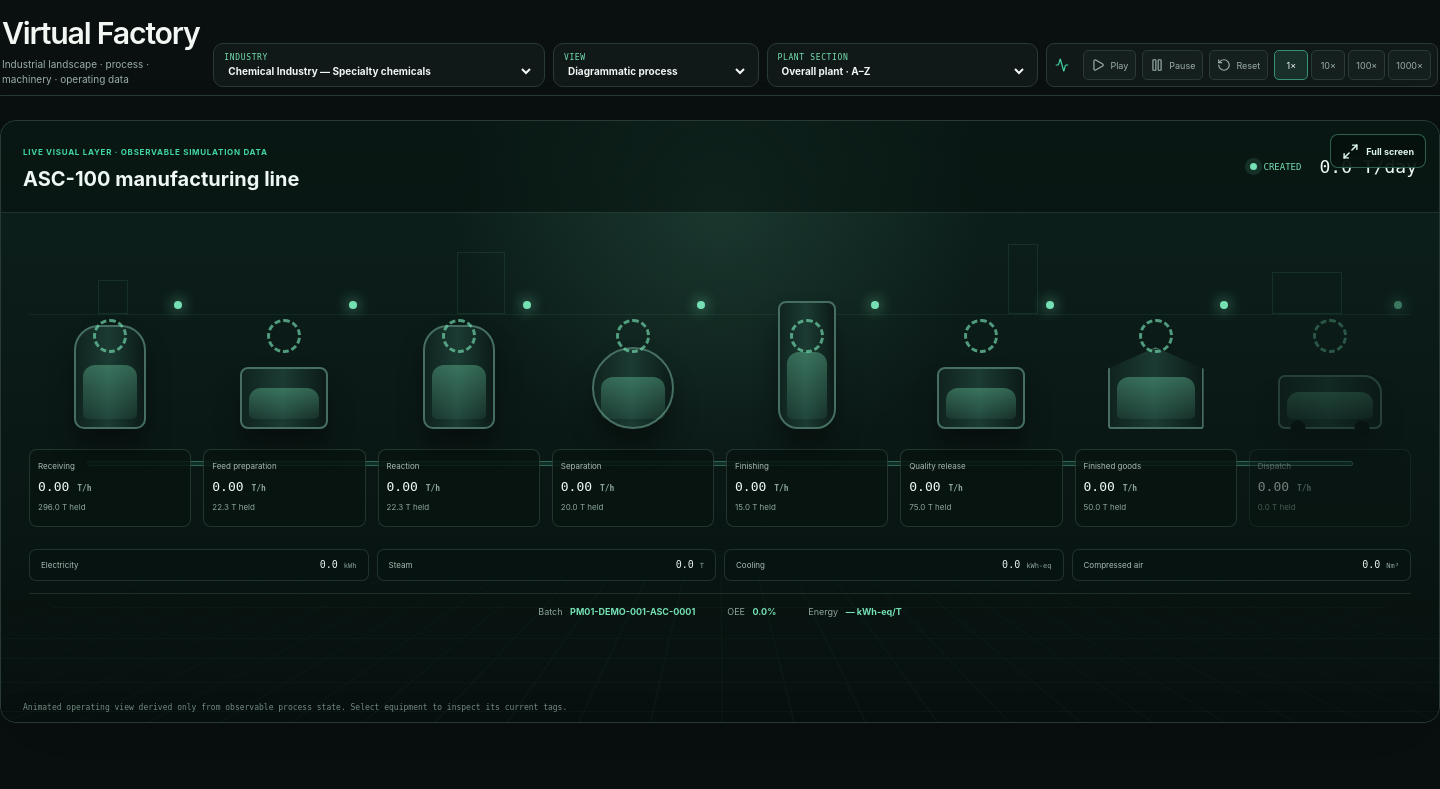
Scenario: PM-01 virtual factory › renders the complete process topology and honest intelligence placeholder
The image size is (1440, 789).
Expected: the heading "Virtual Factory" is shown, x1=2 y1=11 x2=201 y2=56
Expected: the heading "ASC-100 manufacturing line" is shown, x1=23 y1=164 x2=299 y2=194
Select "Statistical view" in the dropdown named "Choose plant view": (656, 71) x1=564 y1=64 x2=748 y2=78
(page scrolled)
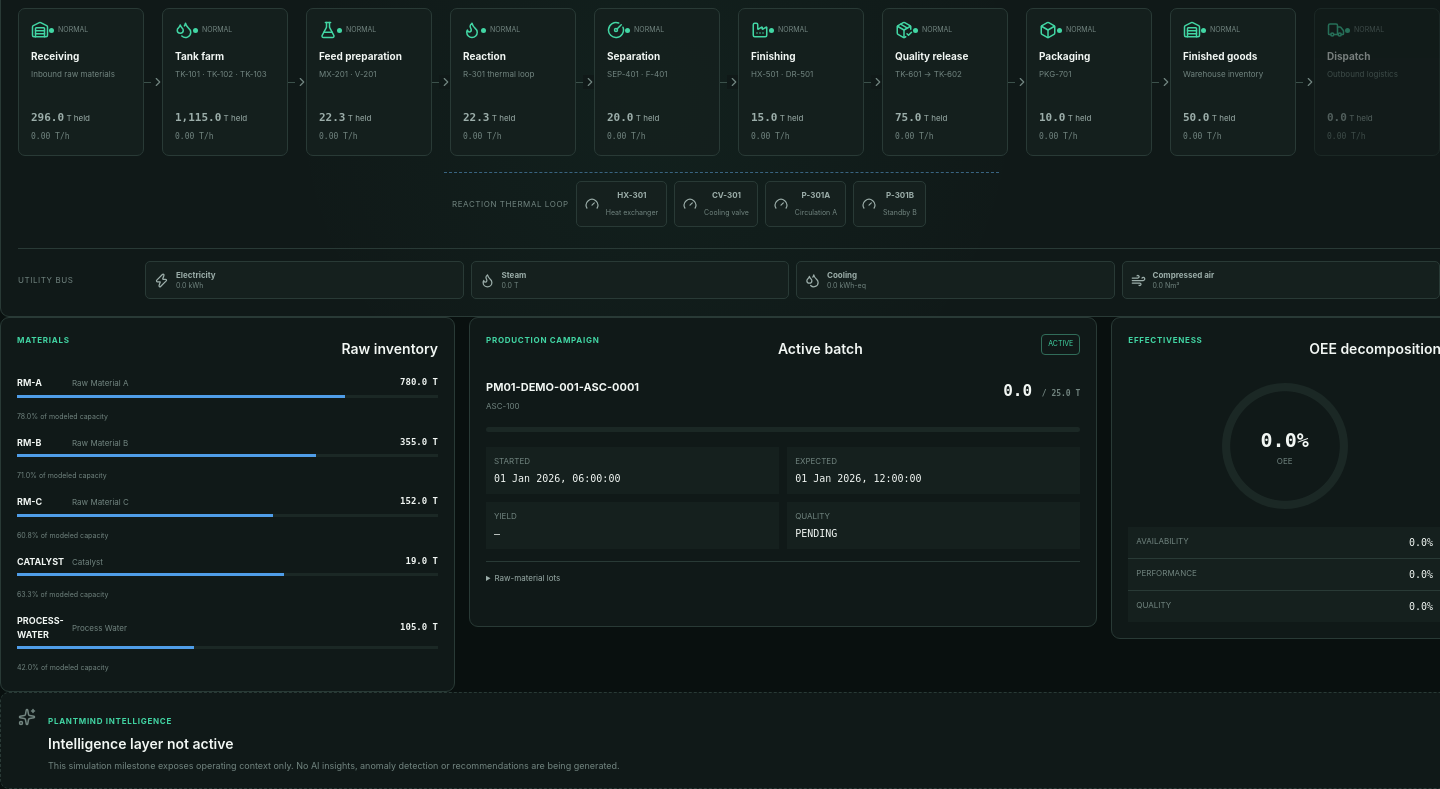
Expected: the text "Tank farm" is shown, x1=175 y1=49 x2=224 y2=64
Expected: the text "Reaction" is shown, x1=463 y1=49 x2=506 y2=64
Expected: the text "Packaging" is shown, x1=1039 y1=49 x2=1090 y2=64
